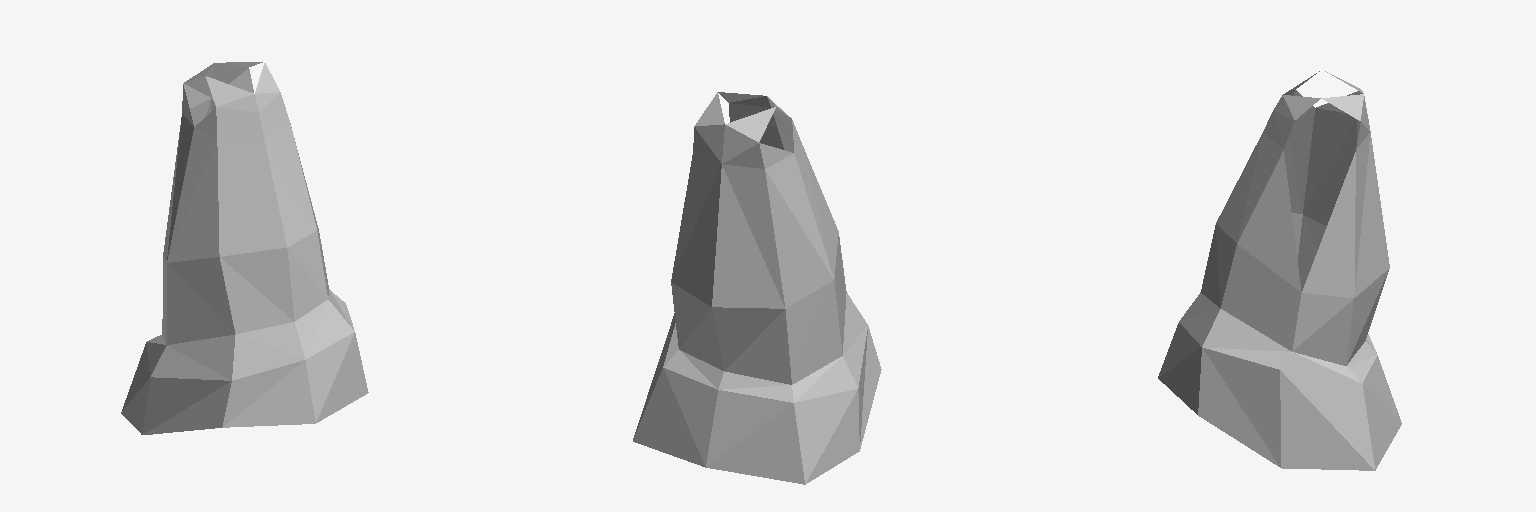
Rendered from body.obj.
The picture shows the model from 3 angles: view 1: azimuth 30°, elevation 25°; view 2: azimuth 150°, elevation 25°; view 3: azimuth 270°, elevation 25°; orthographic projection.
Visible parts, largest first — view 1: mesh04052.001; view 2: mesh04052.001; view 3: mesh04052.001.
Boxes of the visible parts, box(x1,y1,x2,y2) form: mesh04052.001: box(121, 62, 368, 434); mesh04052.001: box(633, 92, 881, 484); mesh04052.001: box(1158, 71, 1401, 470).
Size of the model in its own units: 2.51 by 4.02 by 2.59.